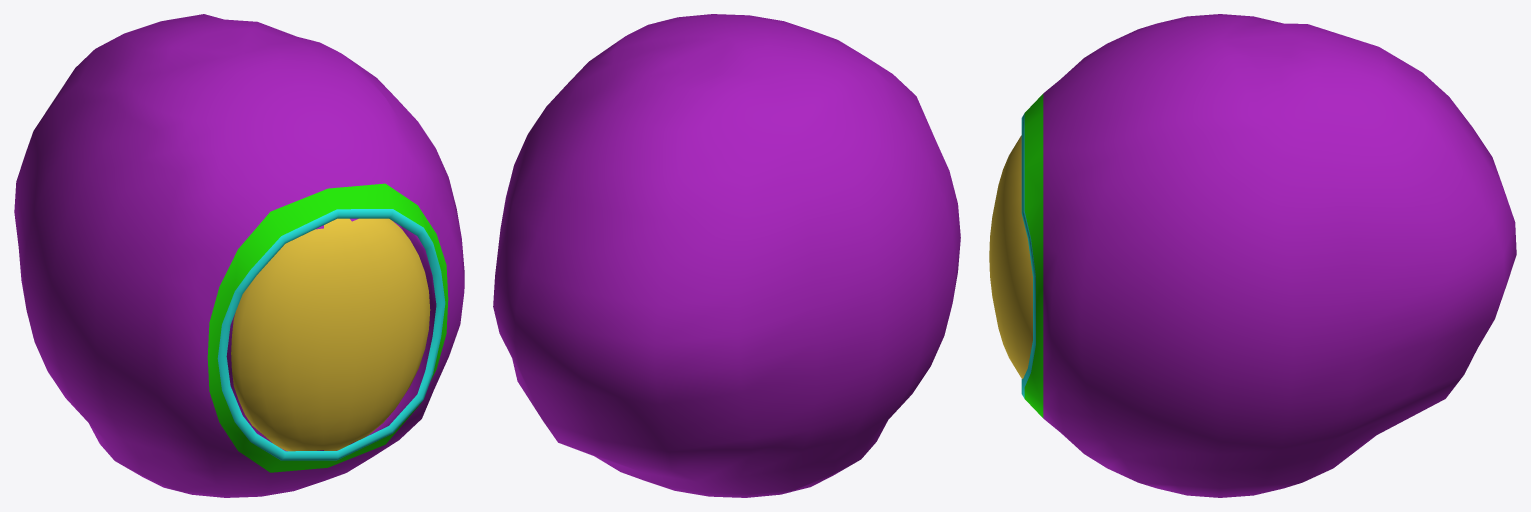
The model's file is enemy_head.fbx.
3 views of the same model, side by side, from view 1: azimuth 30°, elevation 25°; view 2: azimuth 150°, elevation 25°; view 3: azimuth 270°, elevation 25° (orthographic). The views are drawn at different scales.
Visible parts, largest first — view 1: Enemy_Head; view 2: Enemy_Head; view 3: Enemy_Head.
Part boxes in pixels (x1=…): Enemy_Head: x1=14, y1=14, x2=464, y2=497; Enemy_Head: x1=493, y1=14, x2=960, y2=497; Enemy_Head: x1=989, y1=14, x2=1516, y2=497.
Size of the model in its own units: 34.11 by 35.86 by 39.74.
